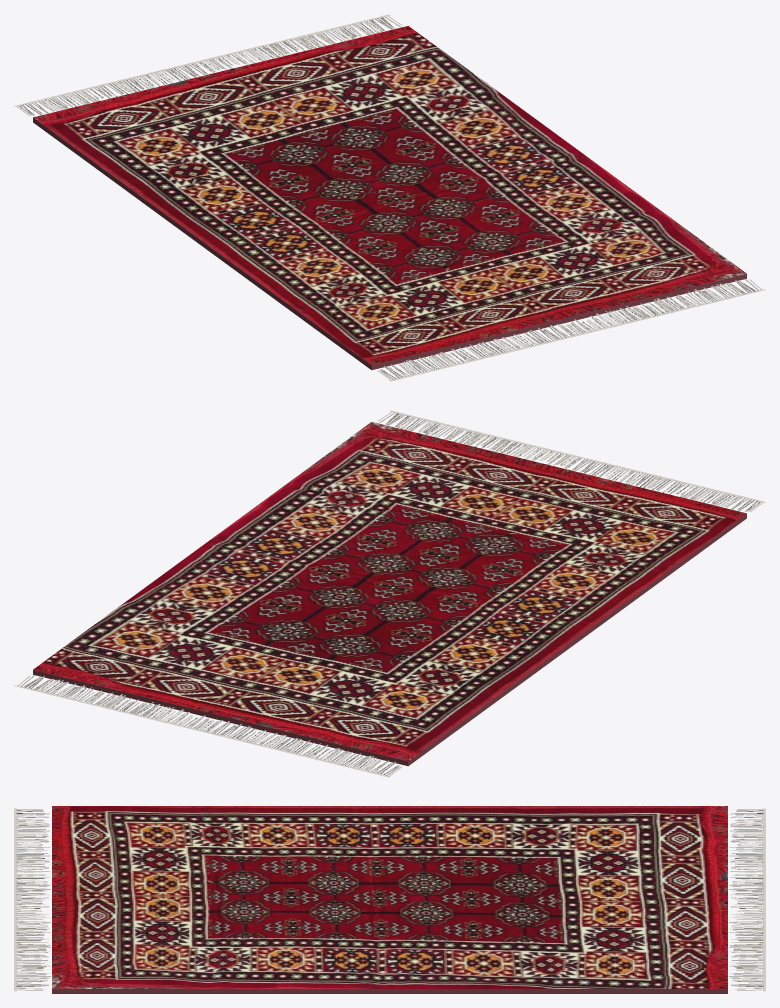
3 renders of one model, top to bottom at view 1: azimuth 30°, elevation 25°; view 2: azimuth 150°, elevation 25°; view 3: azimuth 270°, elevation 25°, orthographic.
Visible parts, largest first — view 1: rug, fringeB, fringeA, side; view 2: rug, fringeA, fringeB, side; view 3: rug, fringeB, fringeA, side.
Part boxes in pixels (left/top/right/bottom): rug: left=33, top=26, right=746, bottom=365; fringeB: left=378, top=279, right=765, bottom=381; fringeA: left=14, top=14, right=402, bottom=115; side: left=33, top=117, right=746, bottom=370; rug: left=33, top=422, right=746, bottom=761; fringeA: left=14, top=675, right=401, bottom=777; fringeB: left=377, top=410, right=765, bottom=511; side: left=33, top=513, right=746, bottom=766; rug: left=52, top=806, right=727, bottom=988; fringeB: left=14, top=808, right=50, bottom=991; fringeA: left=729, top=808, right=765, bottom=991; side: left=52, top=989, right=727, bottom=993.
Size of what is drawn, in the model's own units: 0.8 by 0.0102 by 1.39.
Materials: 2 (2 with a texture image).
